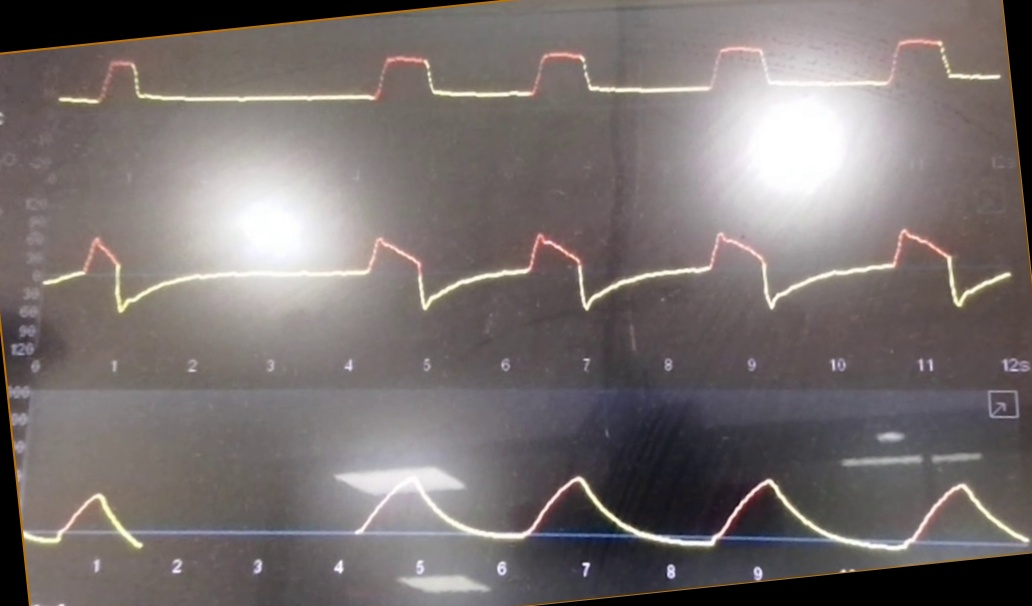Normal Flow: (48, 190, 1012, 335)
Normal Volume: (29, 434, 1027, 555)
